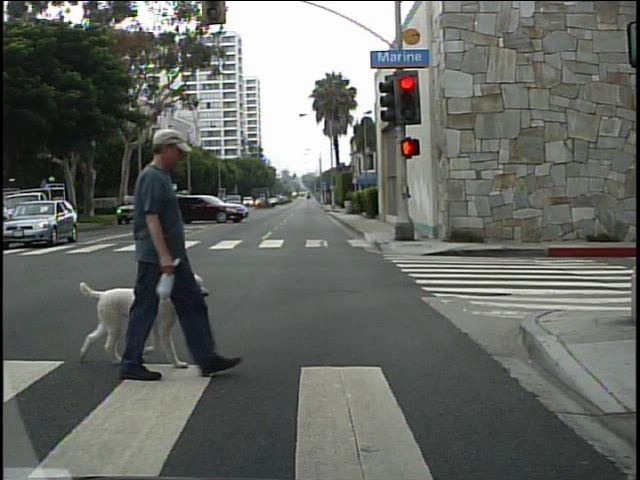person: (111, 116, 207, 383)
